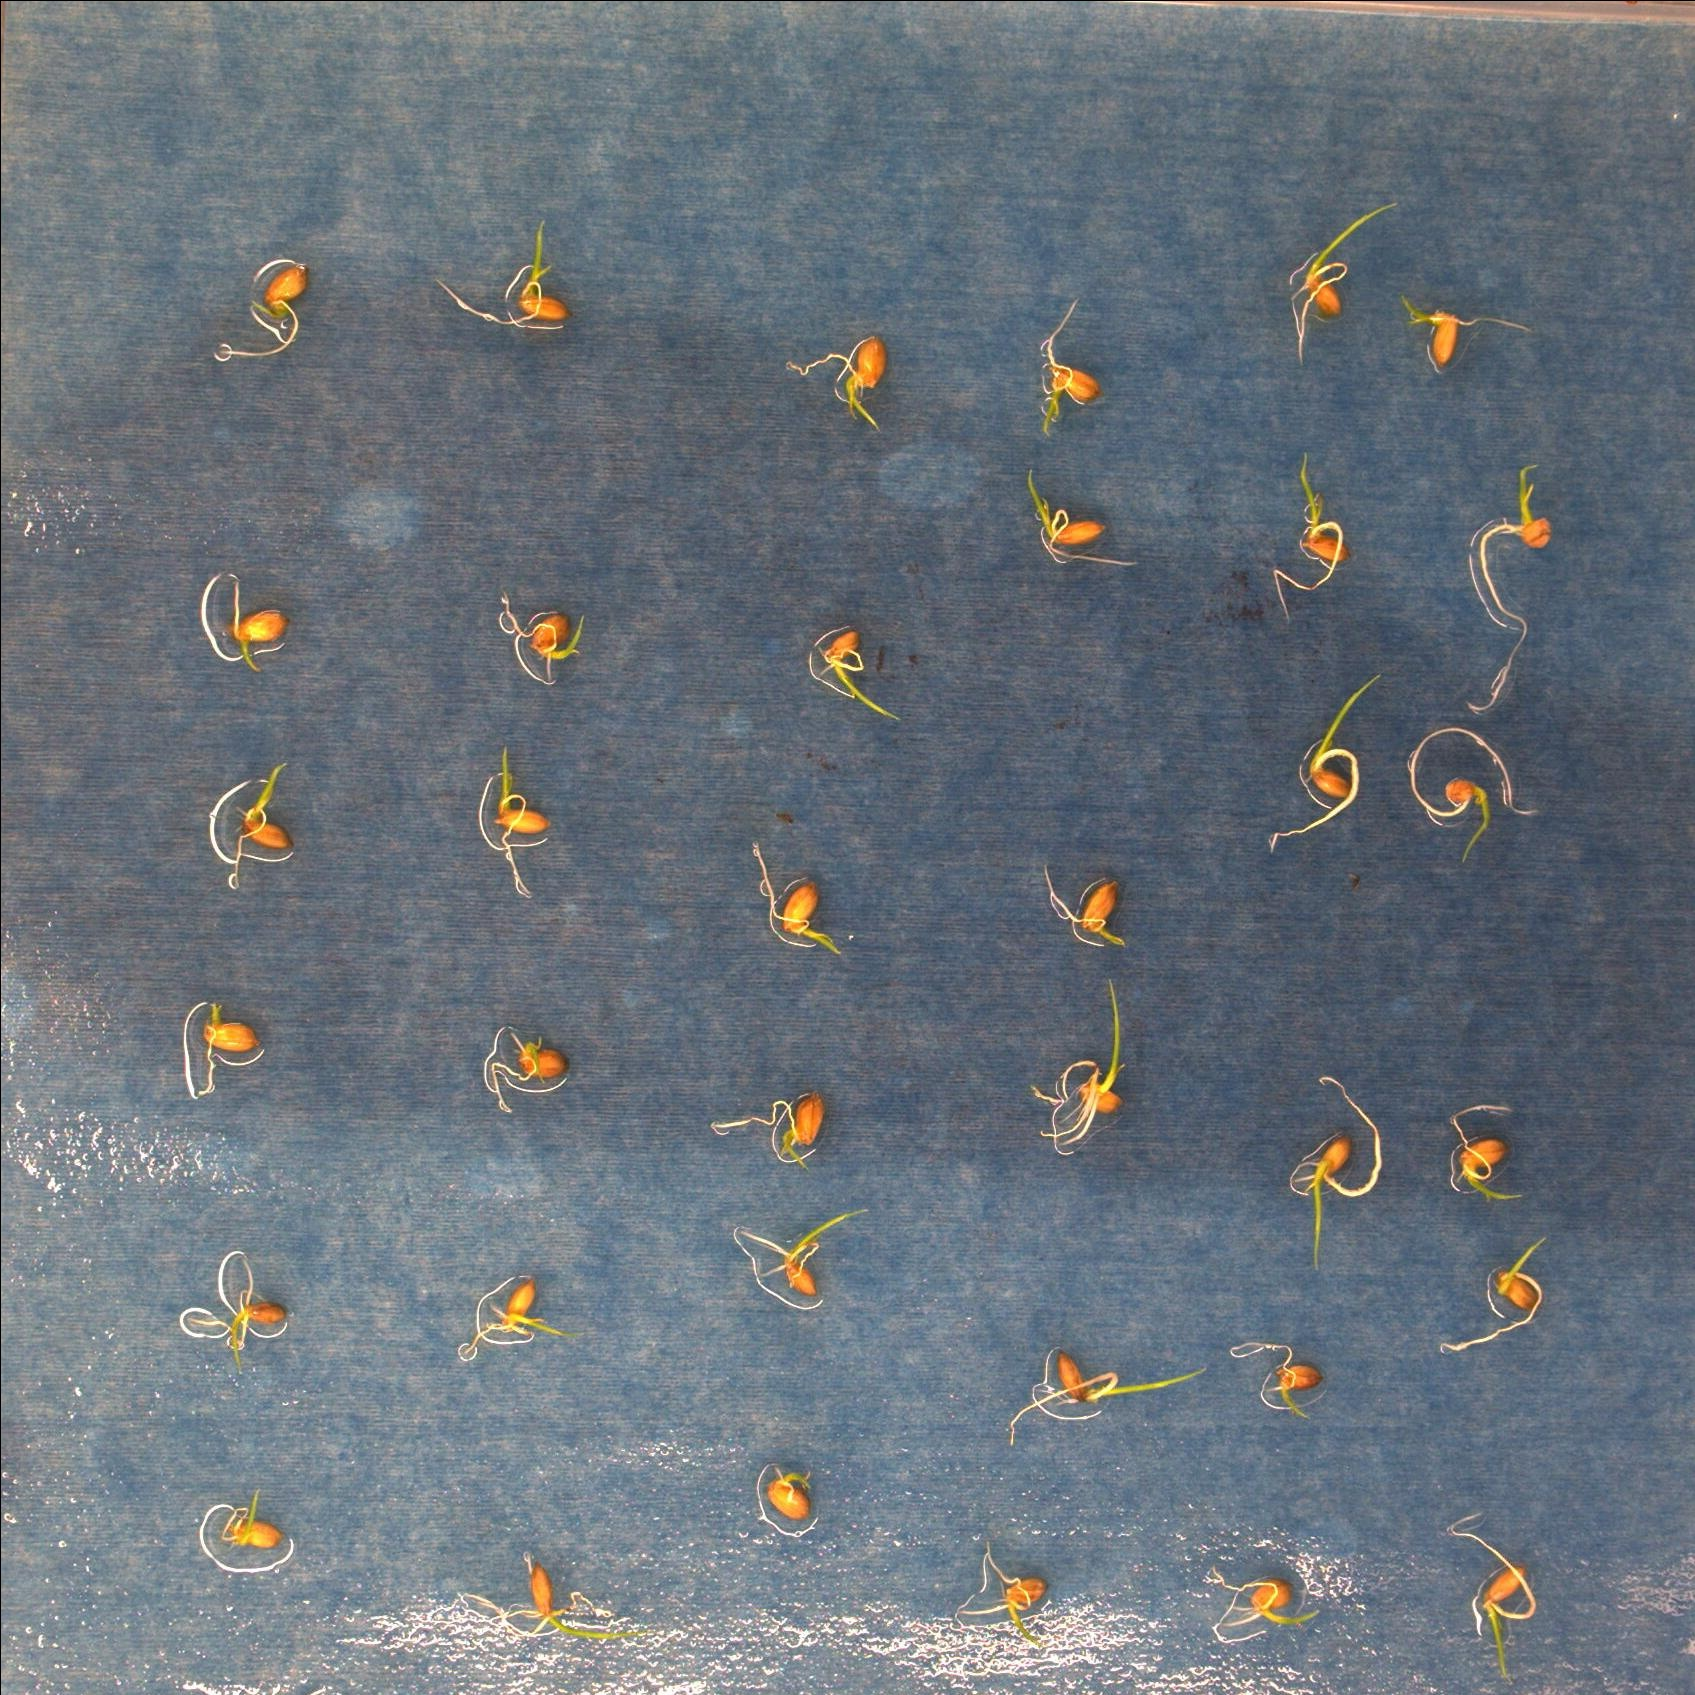not sprout: (199, 1245, 290, 1378), (224, 256, 309, 365), (188, 1001, 267, 1094), (213, 1503, 293, 1562), (757, 1475, 816, 1529)
sprout: (1461, 447, 1565, 712), (1291, 1074, 1416, 1276), (1270, 667, 1426, 820), (1281, 192, 1412, 365), (1000, 1350, 1208, 1456), (1006, 450, 1146, 588), (1029, 983, 1138, 1159), (459, 1555, 636, 1653), (1409, 730, 1538, 861), (1440, 1513, 1541, 1679), (1028, 286, 1125, 453), (1444, 1229, 1568, 1357), (1205, 1562, 1354, 1666), (1273, 450, 1360, 622), (1447, 1097, 1586, 1203), (424, 244, 573, 337), (792, 626, 931, 722), (705, 1077, 834, 1180), (778, 331, 893, 439), (740, 843, 847, 959), (1222, 1333, 1349, 1430), (962, 1534, 1071, 1644), (737, 1212, 861, 1302), (1405, 301, 1546, 374), (477, 1042, 577, 1141), (477, 761, 553, 889), (230, 764, 306, 889), (459, 1277, 570, 1354), (484, 587, 584, 669), (1040, 861, 1127, 948), (222, 588, 286, 677)
